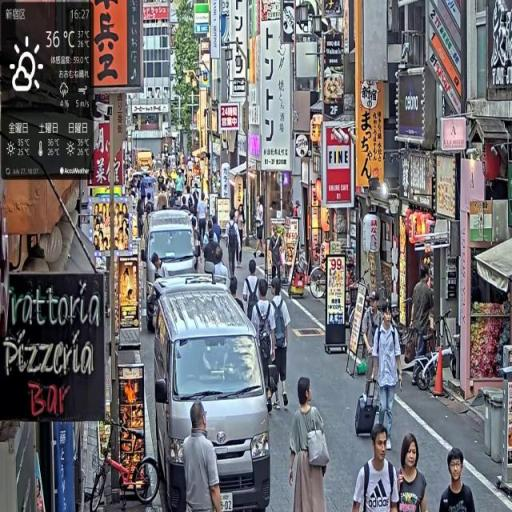person: (289, 374, 332, 512), (372, 303, 405, 453), (183, 399, 224, 512), (352, 422, 399, 512), (251, 281, 277, 407), (269, 276, 292, 413), (395, 431, 431, 512), (438, 446, 477, 512), (245, 261, 264, 324), (268, 223, 285, 290), (227, 213, 242, 283), (255, 195, 267, 260), (199, 193, 209, 250)
